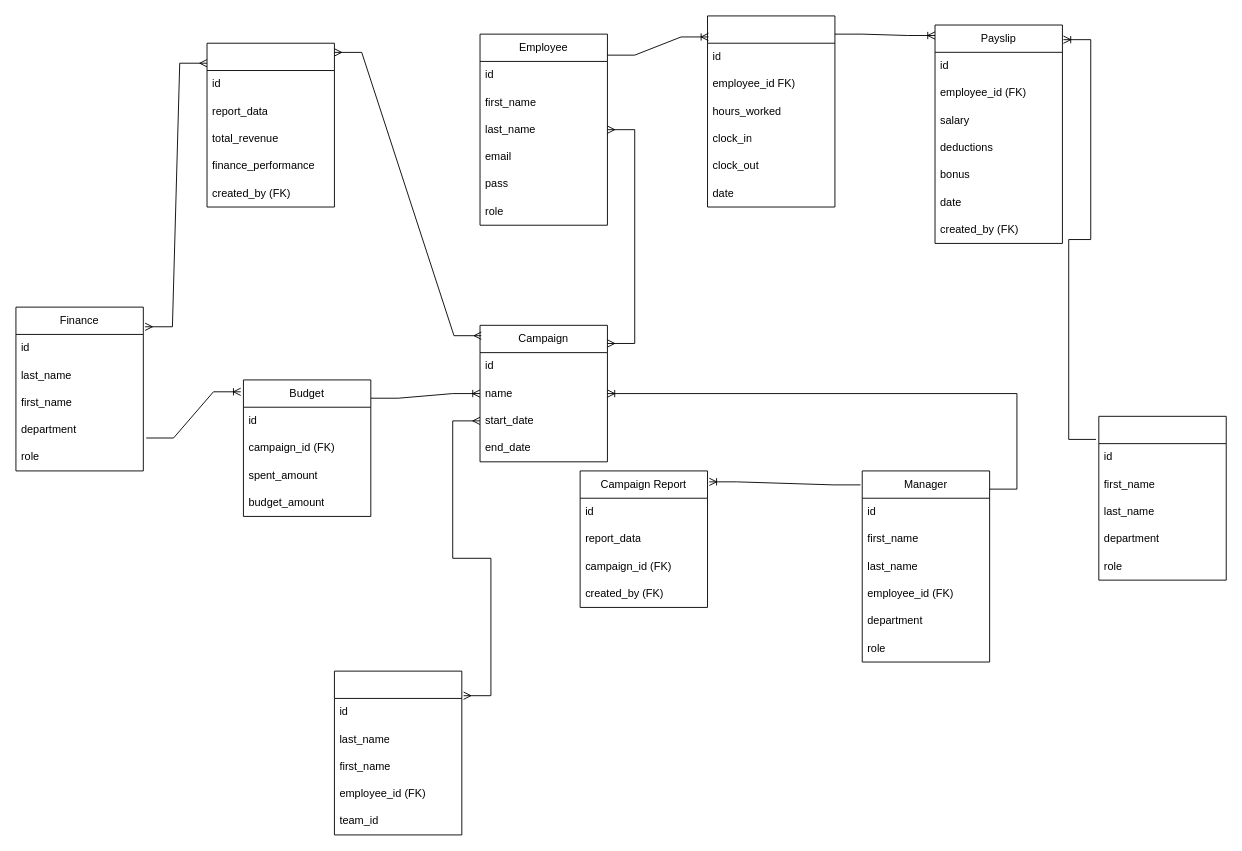
This 1242x851 diagram has some shape labels left out. The shapes that lost their labels are listed below. From the top down, each one's box as (x1, y1, x2, y2) in pixels, then its label:
(206, 42, 334, 207): Financial Report
(707, 15, 835, 207): Entries
(1098, 415, 1226, 580): HR
(334, 670, 462, 835): Supervisor
